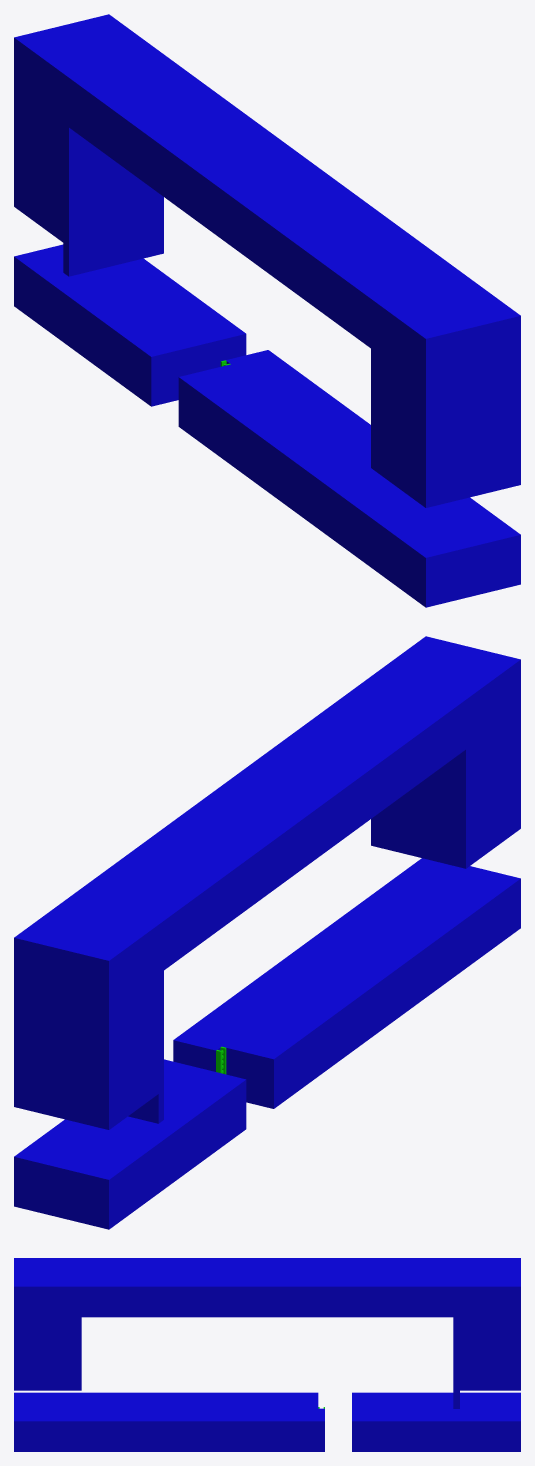
File: Level_3_scene14_colored.fbx
3 views of the same model, one above another, from view 1: azimuth 30°, elevation 25°; view 2: azimuth 150°, elevation 25°; view 3: azimuth 270°, elevation 25° (orthographic). The views are drawn at different scales.
Visible parts, largest first — view 1: Cube.050; view 2: Cube.050, Cube.004; view 3: Cube.050, Cube.004.
Boxes of the visible parts, bbox=[...] form: Cube.050: bbox=[14, 14, 520, 607]; Cube.050: bbox=[14, 636, 520, 1229]; Cube.004: bbox=[173, 1036, 220, 1071]; Cube.050: bbox=[14, 1258, 520, 1451]; Cube.004: bbox=[318, 1408, 324, 1451].
Size of the model in its own units: 1000 by 2700 by 7500.
